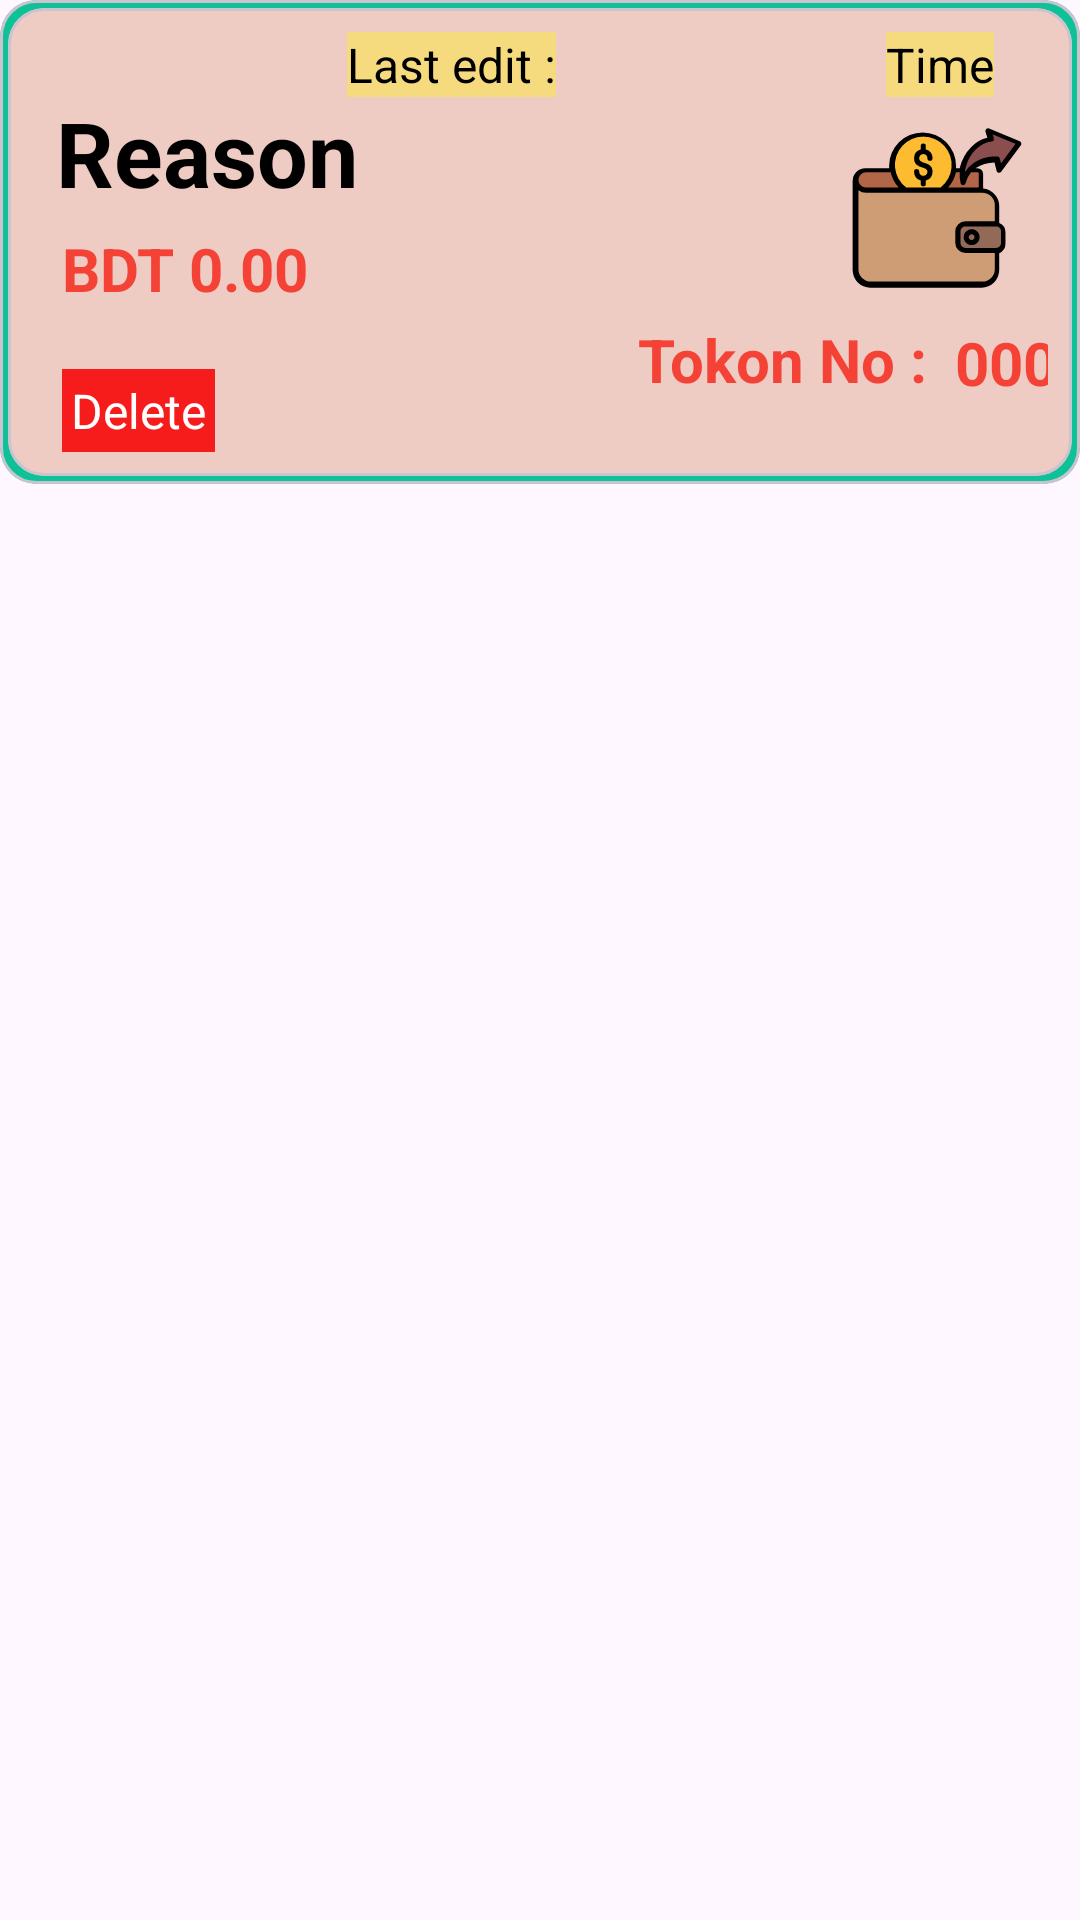

Screen size 1080 × 1920. Icon name, then its center in pixels as (x,y):
expense: (937,208)
